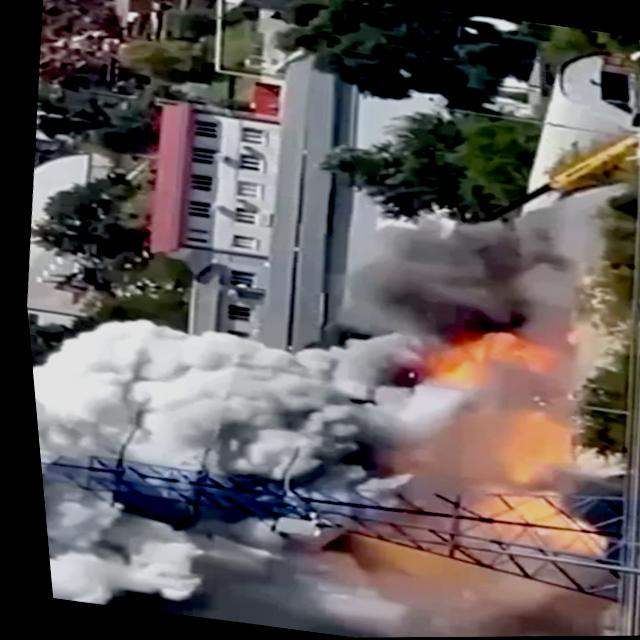no_helmet: (19, 274, 602, 640)
